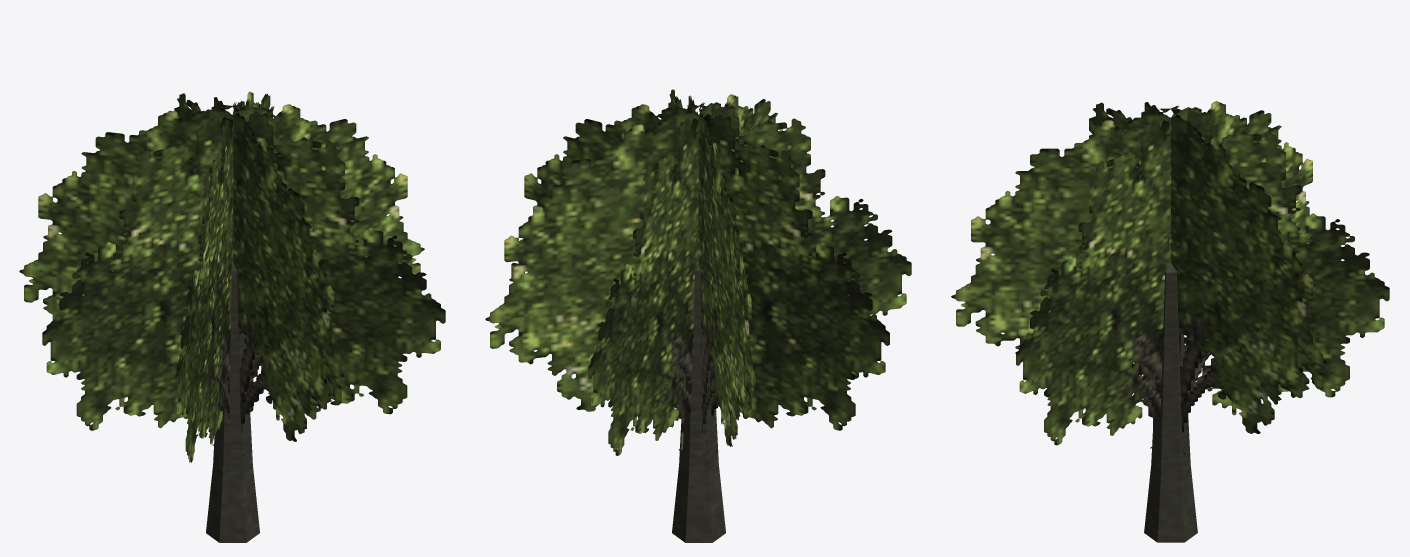
Rendered from tree19.glb.
The picture shows the model from 3 angles, left to right: view 1: azimuth 30°, elevation 25°; view 2: azimuth 150°, elevation 25°; view 3: azimuth 270°, elevation 25°; orthographic projection.
Parts seen in each view (by area): view 1: tree19; view 2: tree19; view 3: tree19.
Boxes of the visible parts, left/top/right/bottom form: tree19: left=19, top=91, right=445, bottom=542; tree19: left=485, top=89, right=911, bottom=542; tree19: left=951, top=101, right=1389, bottom=542.
Bounding box in the file's own units: 12 × 12.5 × 12.
Materials: 1 (1 with a texture image).
